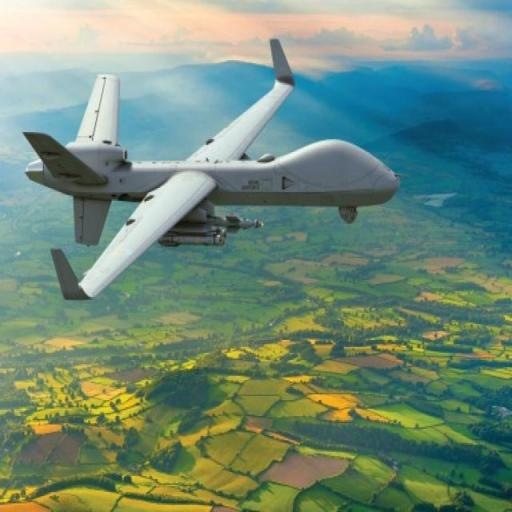uav: (16, 38, 404, 310)
